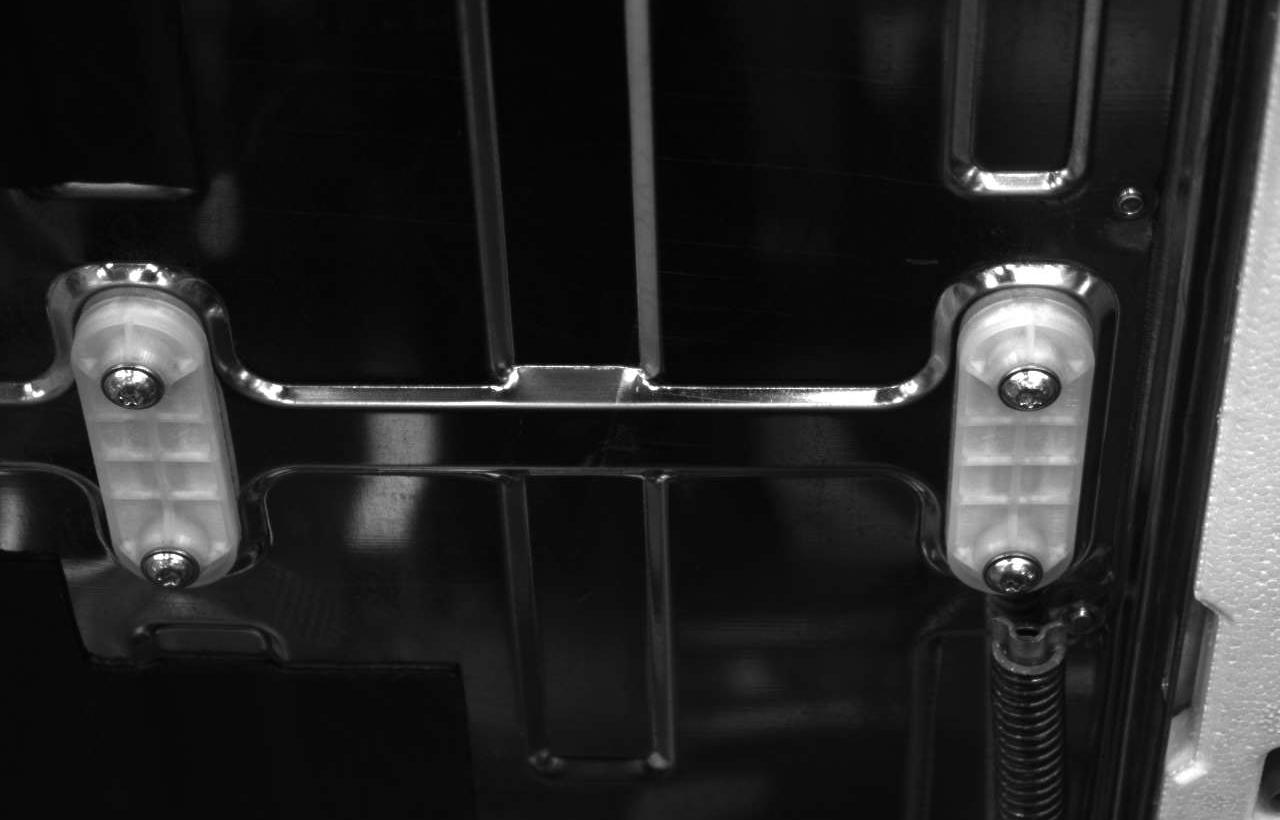vida-ok: (99, 351, 170, 418), (996, 349, 1063, 417), (137, 539, 203, 598), (984, 544, 1050, 602)
